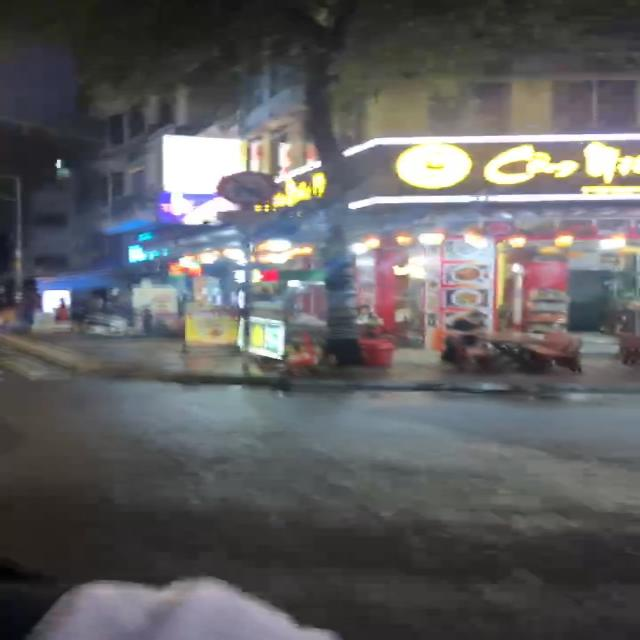Bien bao cam xe oto: (216, 168, 278, 208)
